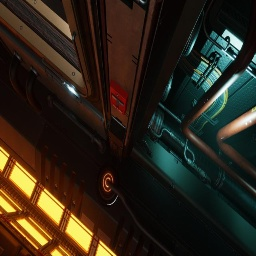FireAlarm ,: (110, 79, 128, 116)
